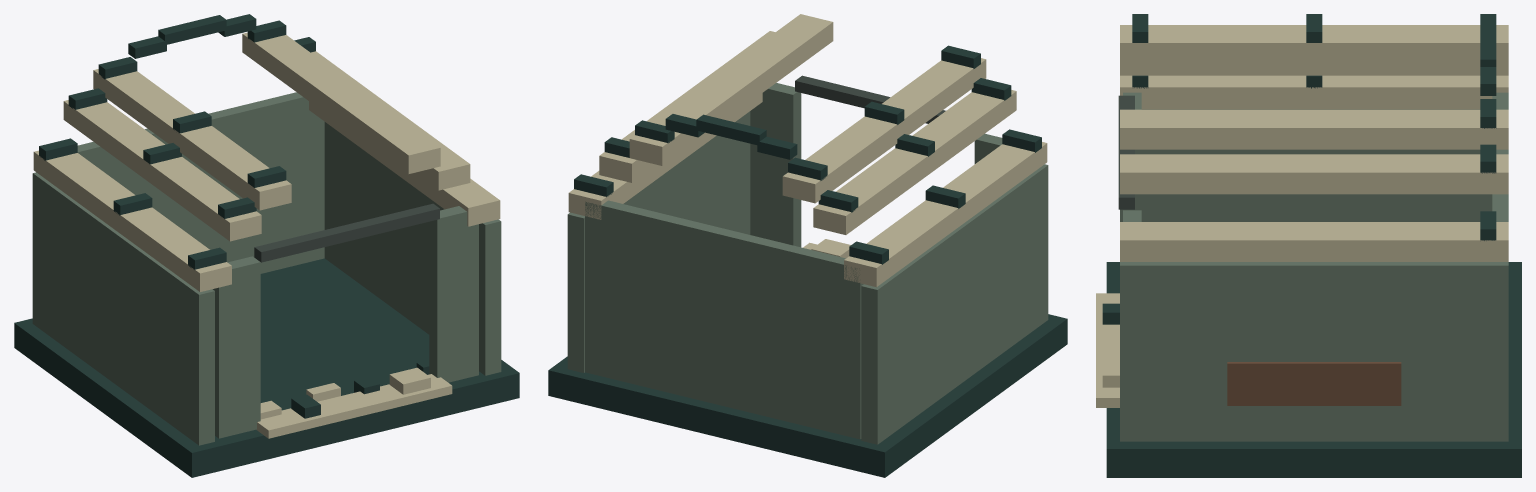
File: hangar-breached.glb
3 renders of one model, left to right at view 1: azimuth 30°, elevation 25°; view 2: azimuth 150°, elevation 25°; view 3: azimuth 270°, elevation 25°, orthographic. The views are drawn at different scales.
Visible parts, largest first — view 1: hangar-breached; view 2: hangar-breached; view 3: hangar-breached.
Boxes of the visible parts, x1=… form: hangar-breached: x1=14, y1=14, x2=519, y2=477; hangar-breached: x1=548, y1=14, x2=1067, y2=477; hangar-breached: x1=1096, y1=14, x2=1521, y2=477.
Size of the model in its own units: 3.3 by 2.82 by 3.18.
